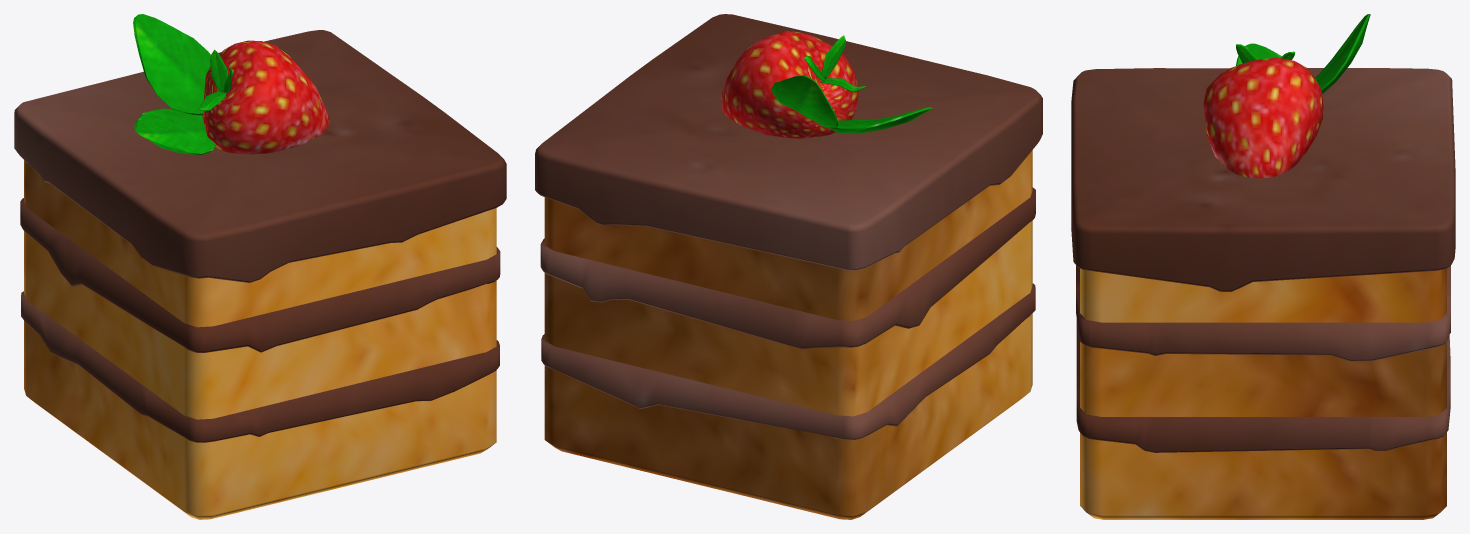
The model's file is Cake.fbx.
3 views of the same model, side by side, from view 1: azimuth 30°, elevation 25°; view 2: azimuth 150°, elevation 25°; view 3: azimuth 270°, elevation 25° (orthographic). The views are drawn at different scales.
Visible parts, largest first — view 1: Cake; view 2: Cake; view 3: Cake.
Part boxes in pixels (x1=…): Cake: x1=14, y1=14, x2=506, y2=519; Cake: x1=535, y1=14, x2=1042, y2=519; Cake: x1=1071, y1=14, x2=1455, y2=519.
Bounding box in the file's own units: 10.21 × 11.65 × 10.21.
